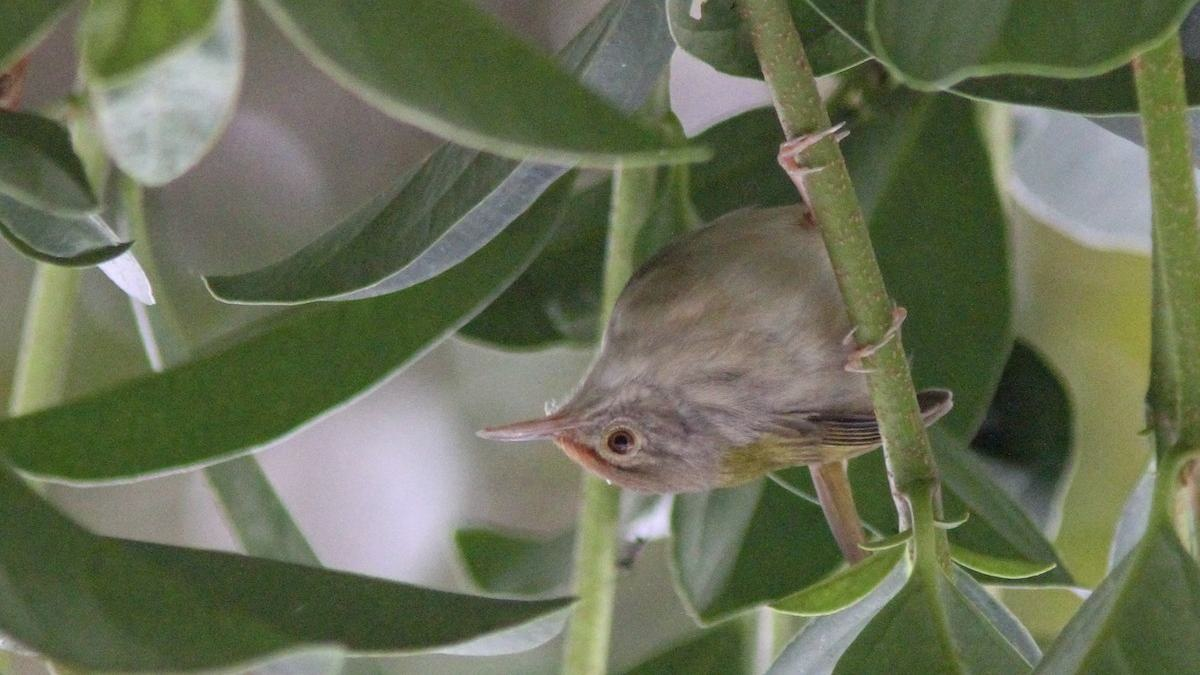tailorbird: (498, 170, 975, 513)
